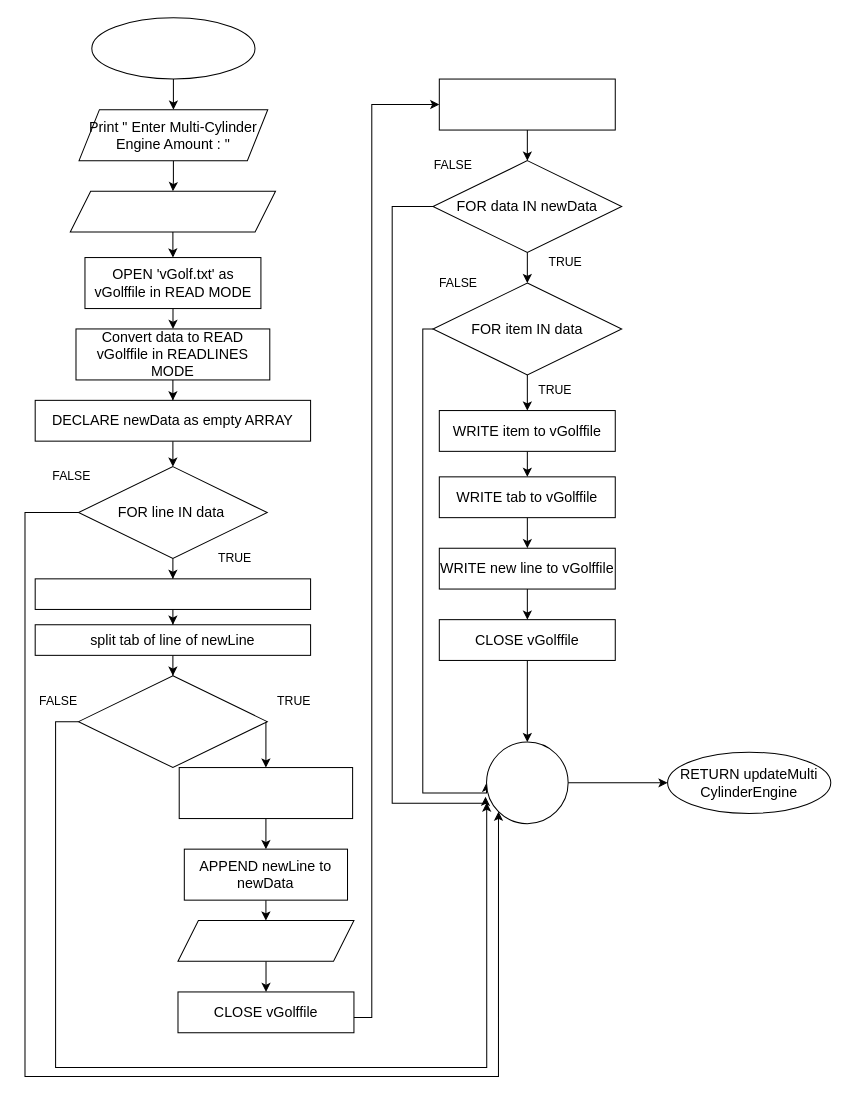
Some shapes in this 849 by 1103 pixel diagram are drawn without their labels. The shapes that lost their labels are listed below. From the top down, each one's centre as x and y in pixels, then its label:
[173,48]: FUNCTION updateMulti CylinderEngine ()
[526,104]: OPEN 'vGolf.txt' as vGolffile in WRITE MODE
[172,211]: Read updateMultiCylinderEngine
[172,593]: REMOVE spaces from RIGHT of line
[172,721]: newLine [0] == 'MCEV3' ?
[265,793]: newLine [2] = updateMultiCylinderEngine
[265,940]: Print "line"
